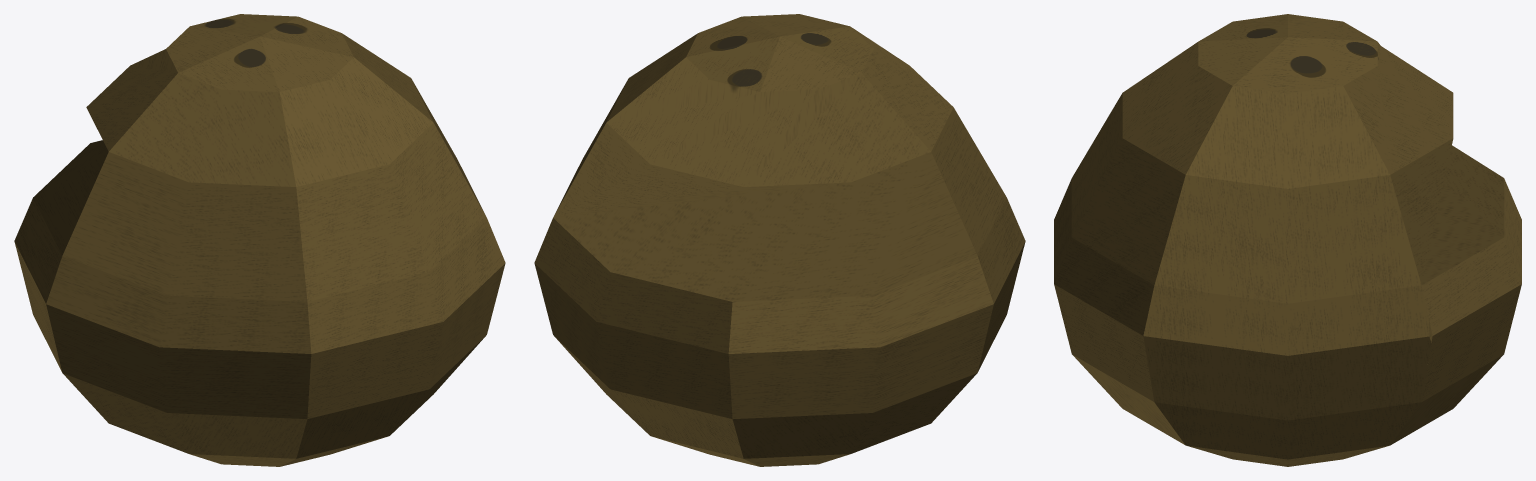
The model's file is koko.fbx.
3 views of the same model, side by side, from view 1: azimuth 30°, elevation 25°; view 2: azimuth 150°, elevation 25°; view 3: azimuth 270°, elevation 25° (orthographic).
Visible parts, largest first — view 1: koko; view 2: koko; view 3: koko.
Part boxes in pixels (x1=…): koko: x1=14, y1=14, x2=505, y2=466; koko: x1=534, y1=14, x2=1025, y2=466; koko: x1=1054, y1=14, x2=1521, y2=466.
Bounding box in the file's own units: 371 × 332 × 353.
